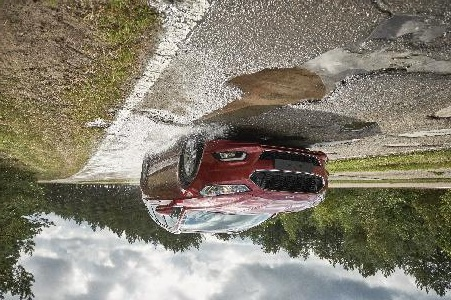pothole: (226, 65, 349, 107), (395, 126, 450, 139), (338, 120, 377, 133), (425, 104, 451, 121)
